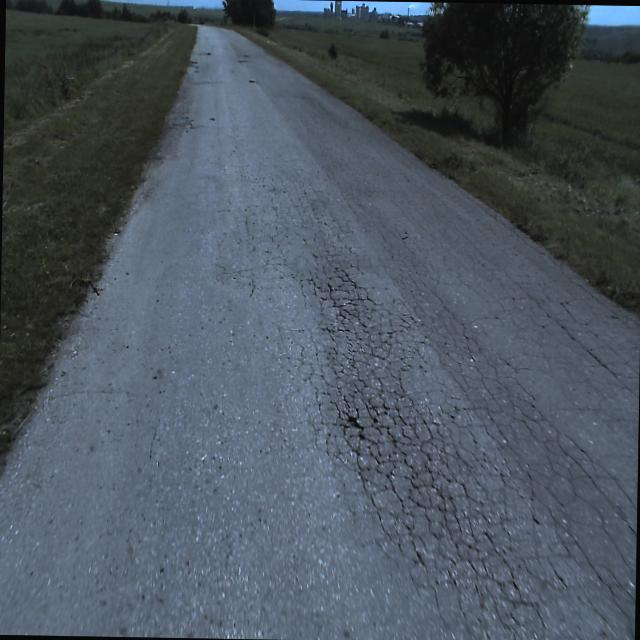road: (0, 25, 640, 640)
